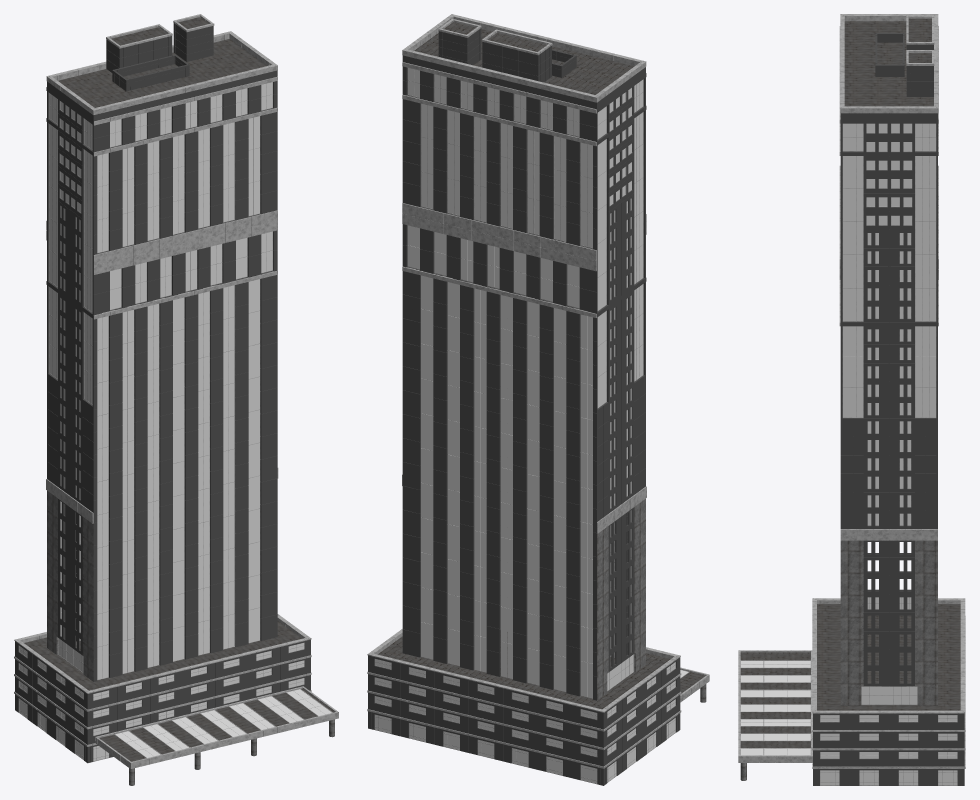
The model's file is Building_04.fbx.
3 views of the same model, side by side, from view 1: azimuth 30°, elevation 25°; view 2: azimuth 150°, elevation 25°; view 3: azimuth 270°, elevation 25° (orthographic). The views are drawn at different scales.
Visible parts, largest first — view 1: Building_04_LOD0; view 2: Building_04_LOD0; view 3: Building_04_LOD0.
Part boxes in pixels (x1,y1,x2,y2): Building_04_LOD0: [14, 14, 338, 785]; Building_04_LOD0: [367, 14, 709, 785]; Building_04_LOD0: [738, 14, 965, 785].
Size of what is drawn, in the model's own units: 4064 by 11506 by 3403.
